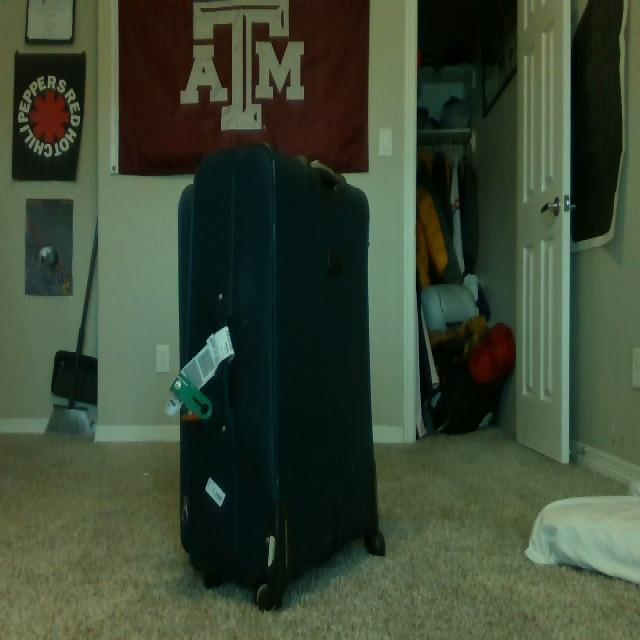suitcase: (175, 140, 388, 612)
